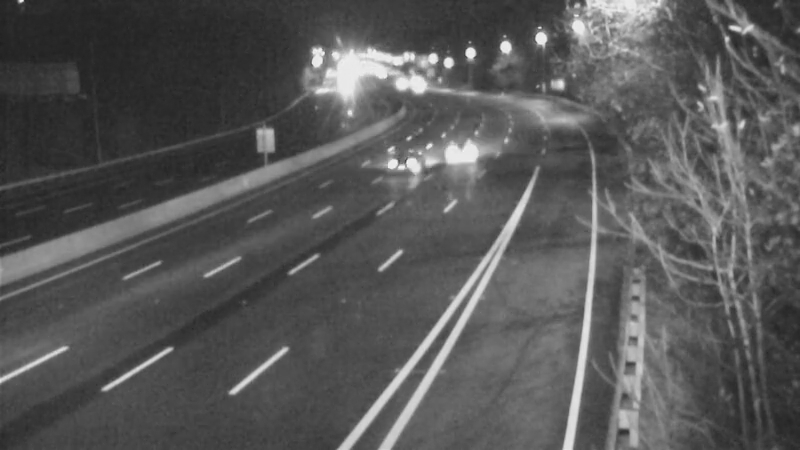vehicle: (420, 112, 500, 192), (368, 123, 448, 203)
